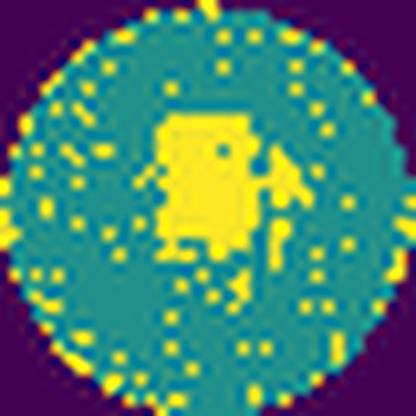Center: (150, 111, 314, 267)
